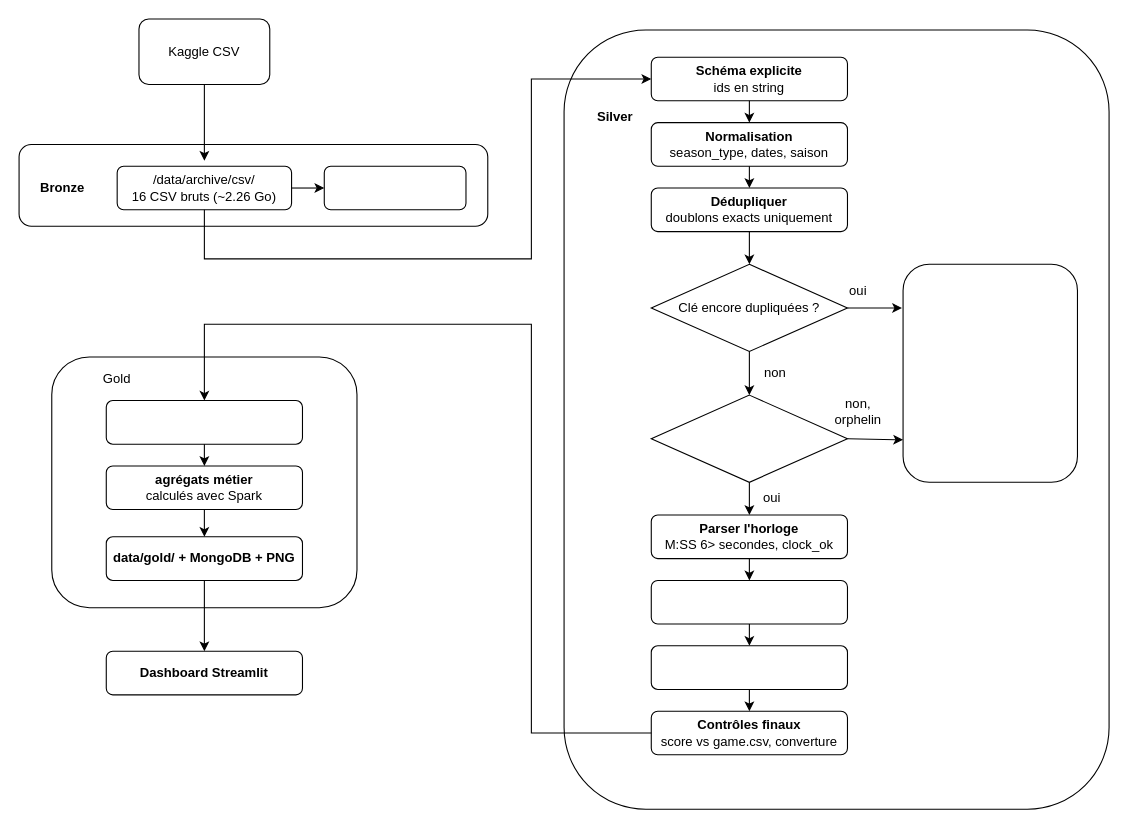
This 1128x828 diagram has some shape labels left out. The shapes that lost their labels are listed below. From the top down, each one's box as (x1, y1, x2, y2) in pixels, then its label:
(323, 165, 466, 210): profil_bronze.py -> profilage_bronze.md
(902, 263, 1077, 482): Quarantaine visible, pas supprimée
(105, 399, 302, 444): Enrichissement métier side, pts, tir, marge, assists
(650, 394, 847, 482): Rattaché à un match ?
(650, 579, 847, 624): Parser le score 88-82 -> home/away, score_ok
(650, 645, 847, 689): Ecrire en parquet partitionné par saison
